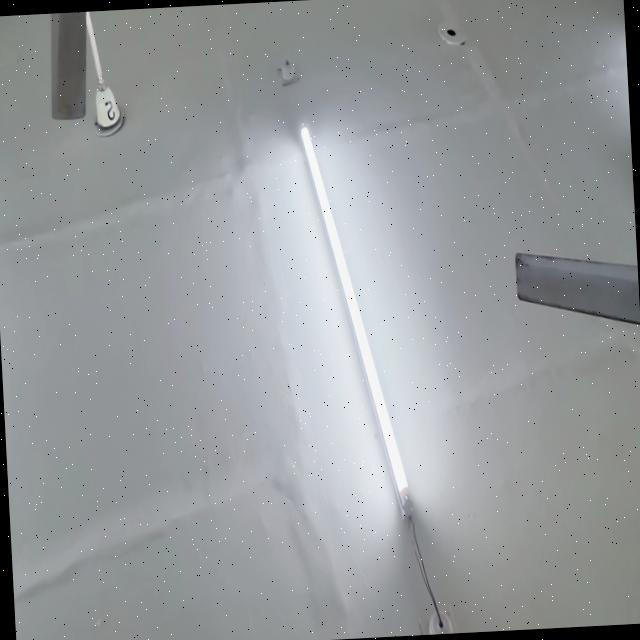Light: (300, 124, 410, 515)
